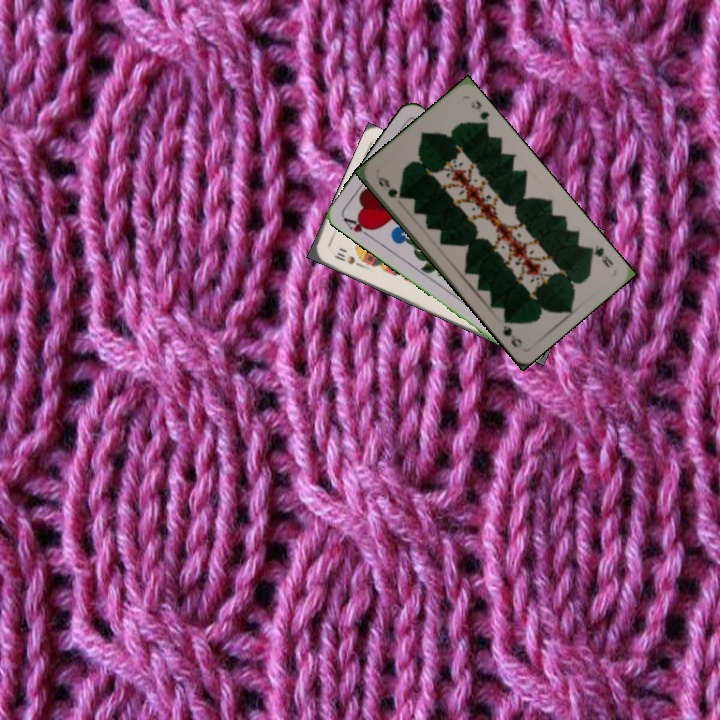G9: (582, 241, 616, 271), (374, 173, 406, 201)
HA: (339, 213, 376, 242)
S10: (330, 248, 364, 269)
